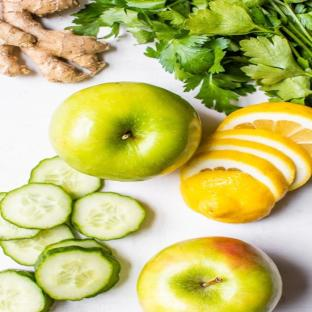Cucumber: (36, 246, 114, 300), (71, 193, 145, 240), (0, 184, 72, 229), (29, 157, 100, 199), (0, 225, 74, 265), (0, 270, 52, 311), (0, 215, 41, 240), (43, 239, 111, 254), (100, 255, 120, 293), (0, 193, 6, 201)
